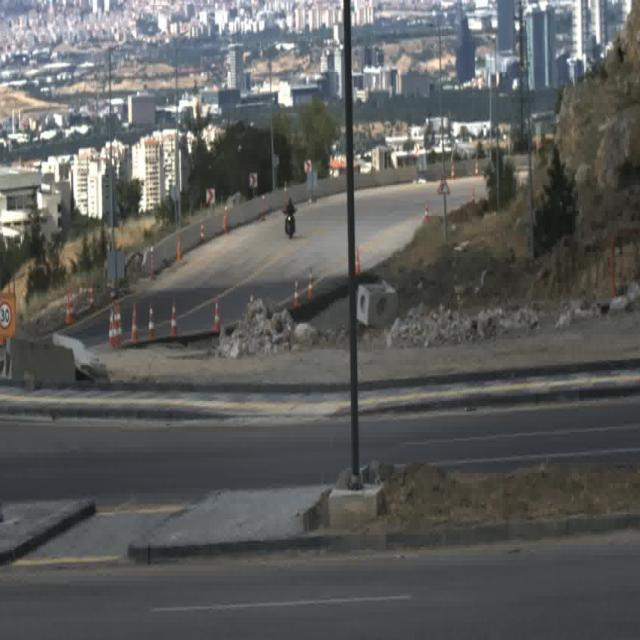Motorcycle: (284, 196, 299, 236)
